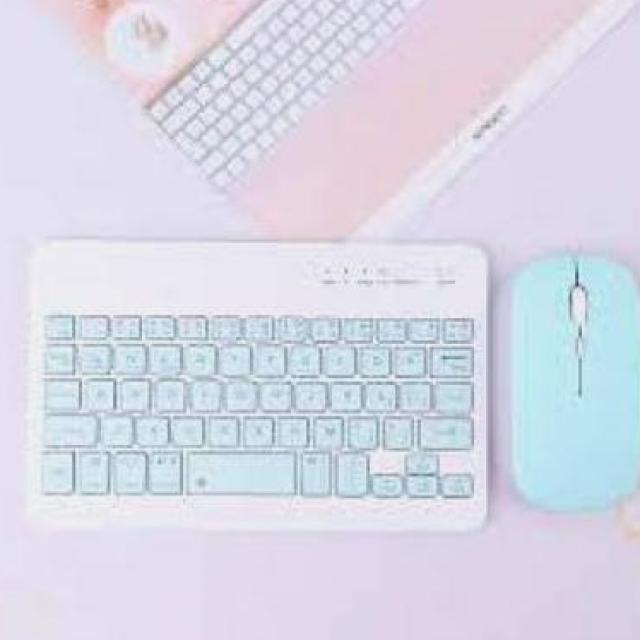keyboard: (24, 233, 491, 533)
